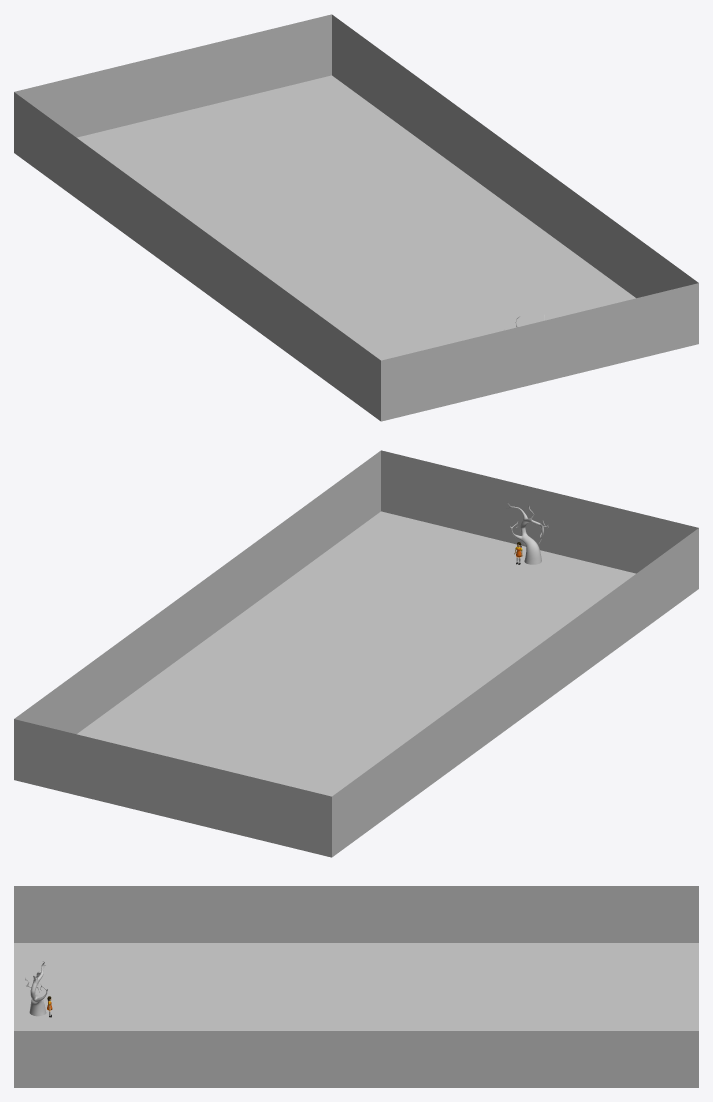
The model's file is RedLight_GreenLight.fbx.
The picture shows the model from 3 angles, top to bottom: view 1: azimuth 30°, elevation 25°; view 2: azimuth 150°, elevation 25°; view 3: azimuth 270°, elevation 25°; orthographic projection. The views are drawn at different scales.
Visible parts, largest first — view 1: Wall; view 2: Wall, tree_02 03_tree 02_03_0; view 3: Wall, tree_02 03_tree 02_03_0.
Part boxes in pixels (bbox=[...]): Wall: bbox=[14, 14, 698, 421]; Wall: bbox=[14, 450, 698, 857]; tree_02 03_tree 02_03_0: bbox=[507, 503, 548, 564]; Wall: bbox=[14, 886, 698, 1087]; tree_02 03_tree 02_03_0: bbox=[25, 961, 48, 1016].
Size of the model in its own units: 5000 by 922 by 10000.
